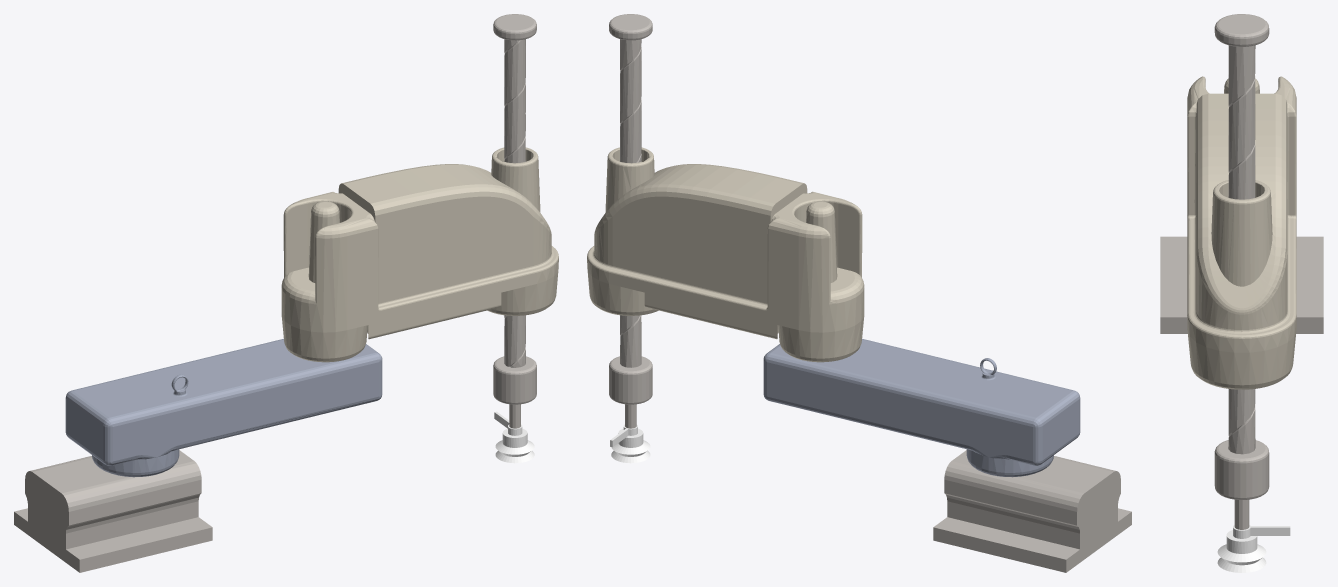
Rendered from 4robot.dae.
The picture shows the model from 3 angles, left to right: view 1: azimuth 30°, elevation 25°; view 2: azimuth 150°, elevation 25°; view 3: azimuth 270°, elevation 25°; orthographic projection. The views are drawn at different scales.
Visible parts, largest first — view 1: J2, J1, 4robot, J3, J4; view 2: J2, J1, 4robot, J3, J4; view 3: J2, J3, 4robot, J4.
Boxes of the visible parts, <box> form: J2: <box>281,147,558,362</box>; J1: <box>65,338,382,477</box>; 4robot: <box>14,450,212,572</box>; J3: <box>493,14,536,428</box>; J4: <box>494,411,534,463</box>; J2: <box>587,147,864,362</box>; J1: <box>763,338,1080,477</box>; 4robot: <box>933,450,1131,572</box>; J3: <box>609,14,652,428</box>; J4: <box>610,424,650,463</box>; J2: <box>1187,76,1296,389</box>; J3: <box>1214,14,1269,529</box>; 4robot: <box>1160,236,1323,333</box>; J4: <box>1217,525,1290,572</box>.
Size of the model in its own units: 0.8 by 0.18 by 0.6534.
